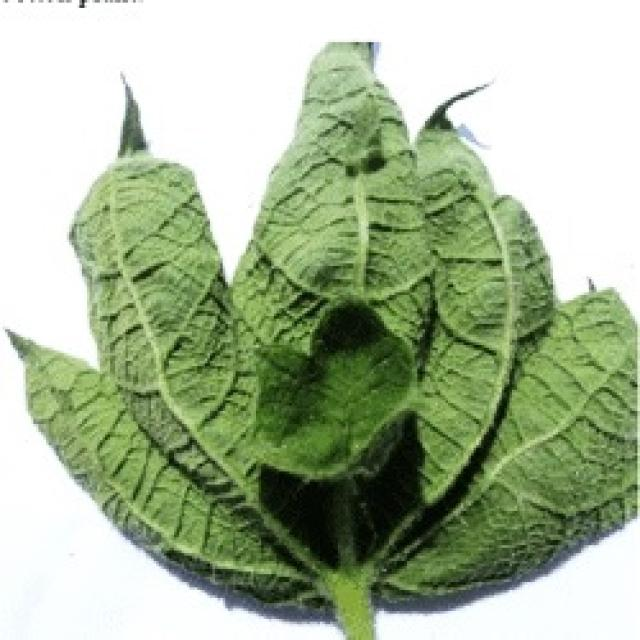Leaf Curl Virus: (110, 141, 624, 570)
